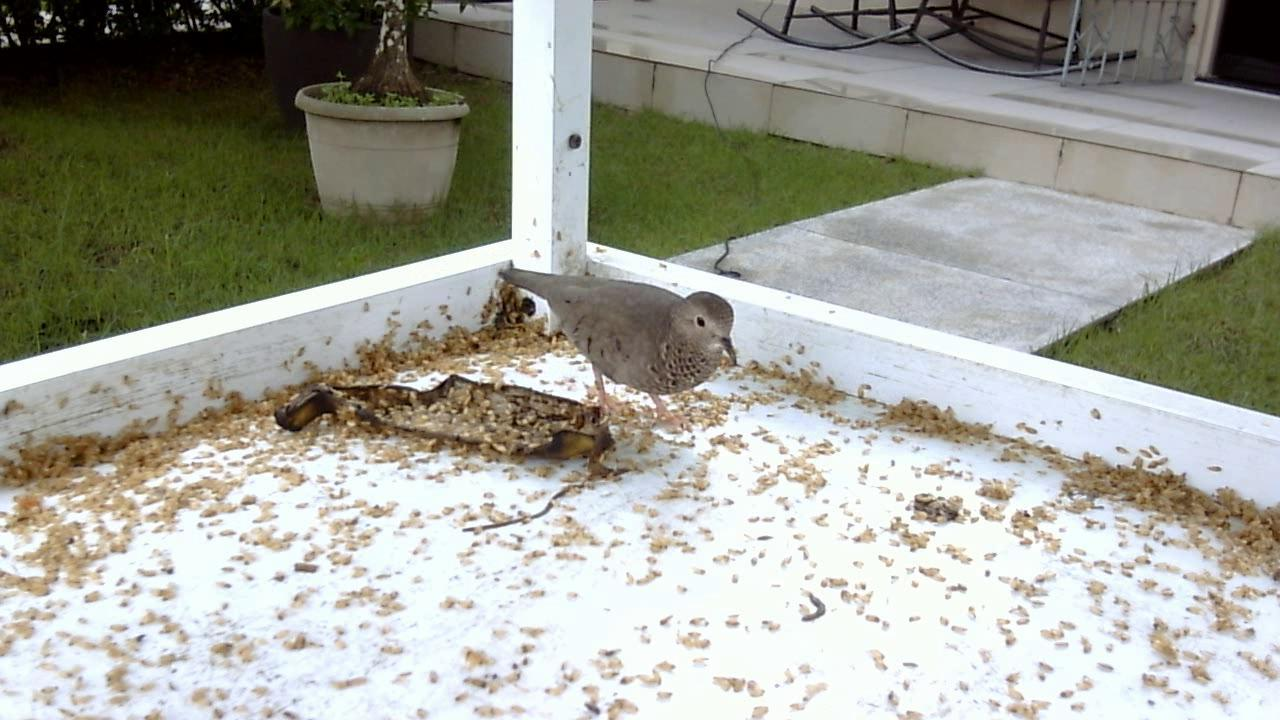rolinha: (493, 261, 740, 415)
